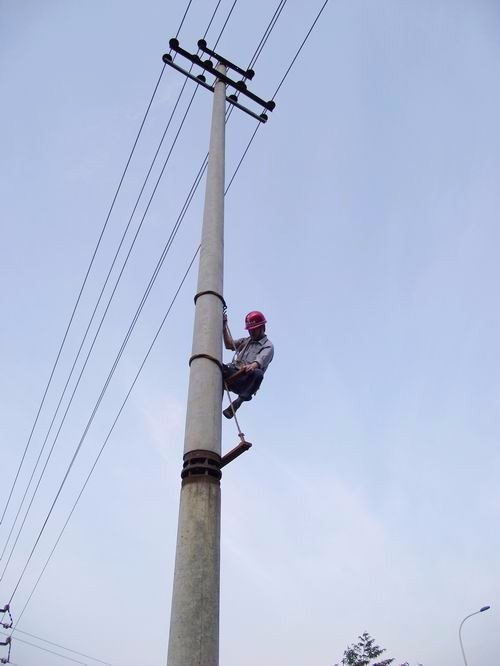utility_pole: (153, 24, 283, 139)
